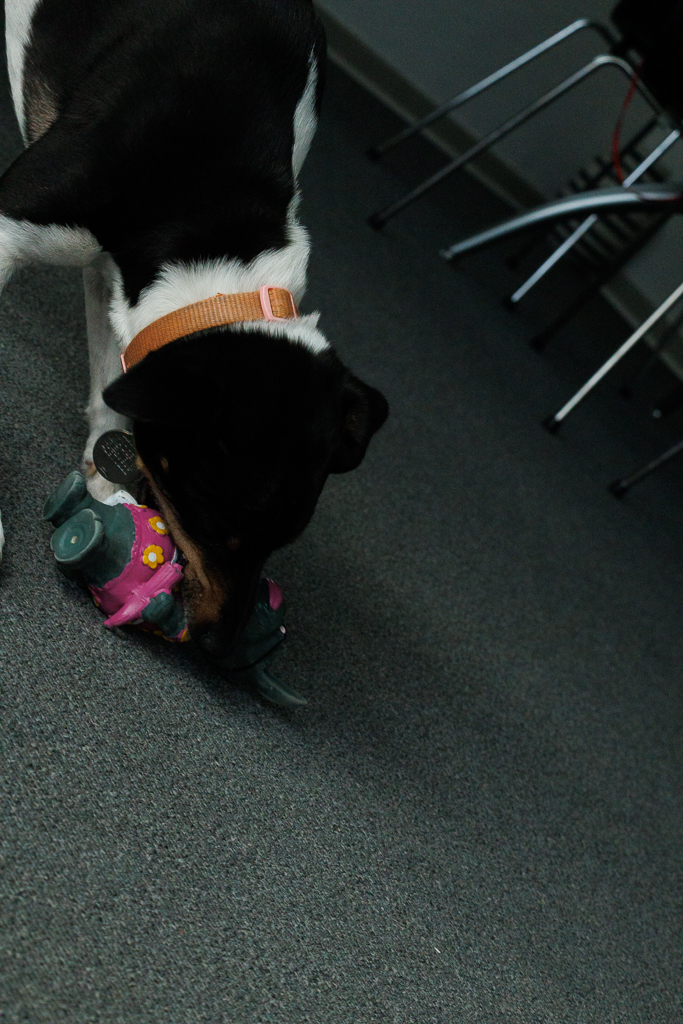Dog: (0, 0, 399, 689)
Humanoid: (32, 455, 329, 731)
